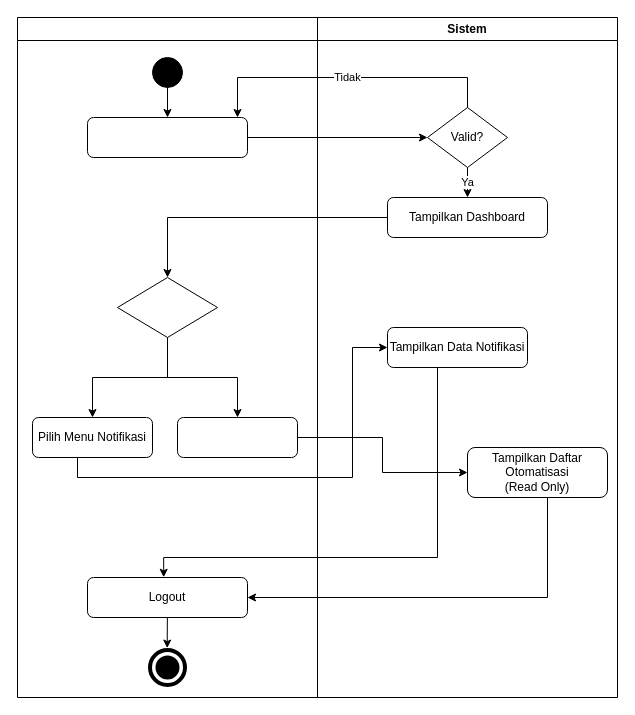
Image size: 635x715. Some labels were removed from this diagram. Each missing label, with the box of its shape:
Input Username & Password: (86, 116, 248, 158)
Pilih Menu Daftar Otomatisasi: (176, 416, 298, 458)
Pilih Menu?: (116, 276, 218, 338)
Staff: (16, 16, 318, 698)
